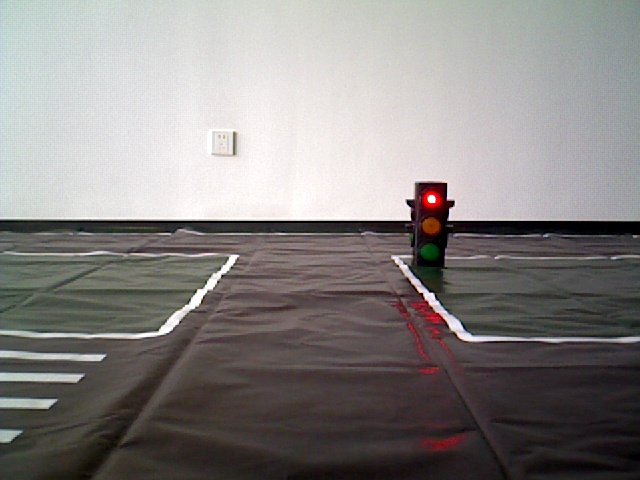red: (414, 182, 447, 268)
